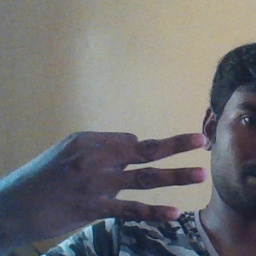K: (10, 125, 209, 232)
